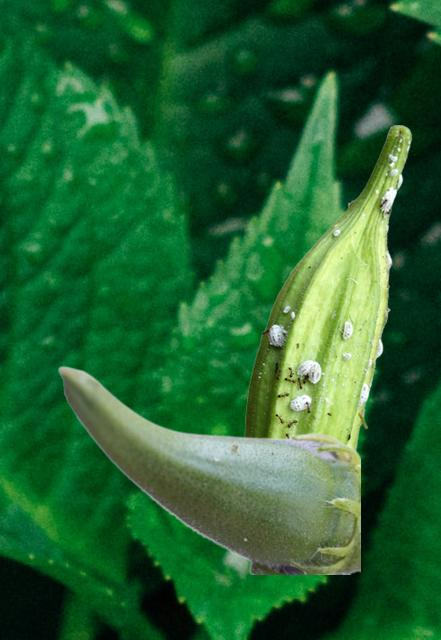okra: (57, 365, 359, 573), (242, 125, 411, 450)
